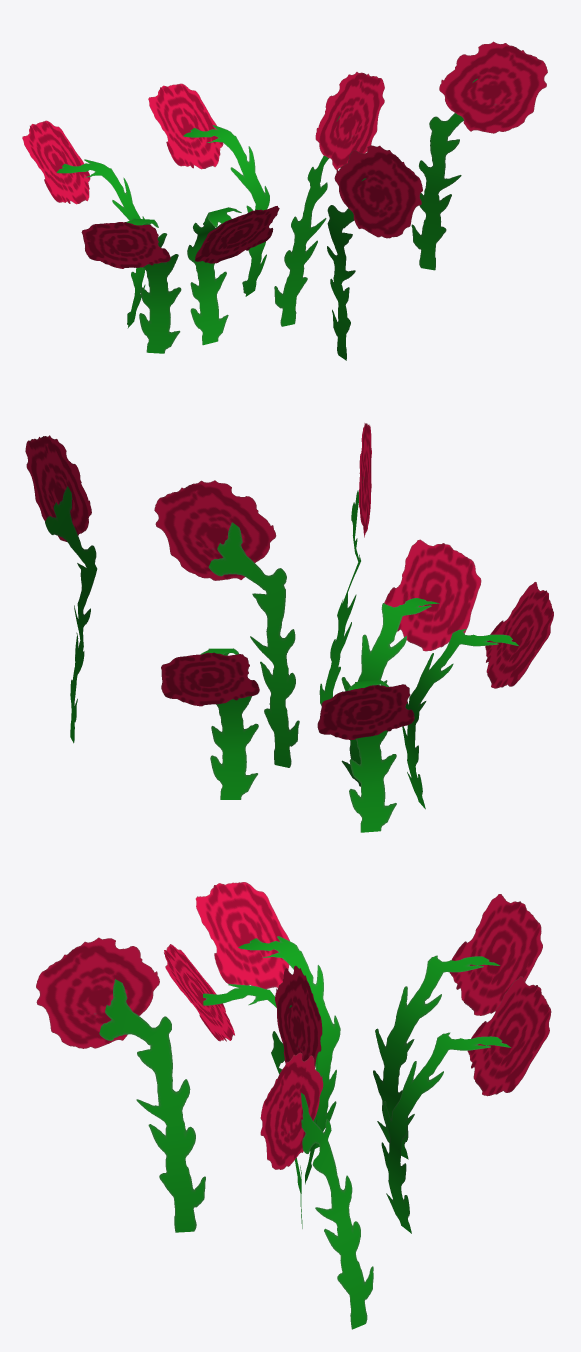
The model's file is plant_roses_01.fbx.
3 renders of one model, top to bottom at view 1: azimuth 30°, elevation 25°; view 2: azimuth 150°, elevation 25°; view 3: azimuth 270°, elevation 25°, orthographic. The views are drawn at different scales.
Visible parts, largest first — view 1: rose_03; view 2: rose_03; view 3: rose_03.
Boxes of the visible parts, <box> form: rose_03: <box>22,41,547,360</box>; rose_03: <box>25,423,553,832</box>; rose_03: <box>36,882,551,1329</box>.
Bounding box in the file's own units: 10.95 × 5.68 × 8.61.
